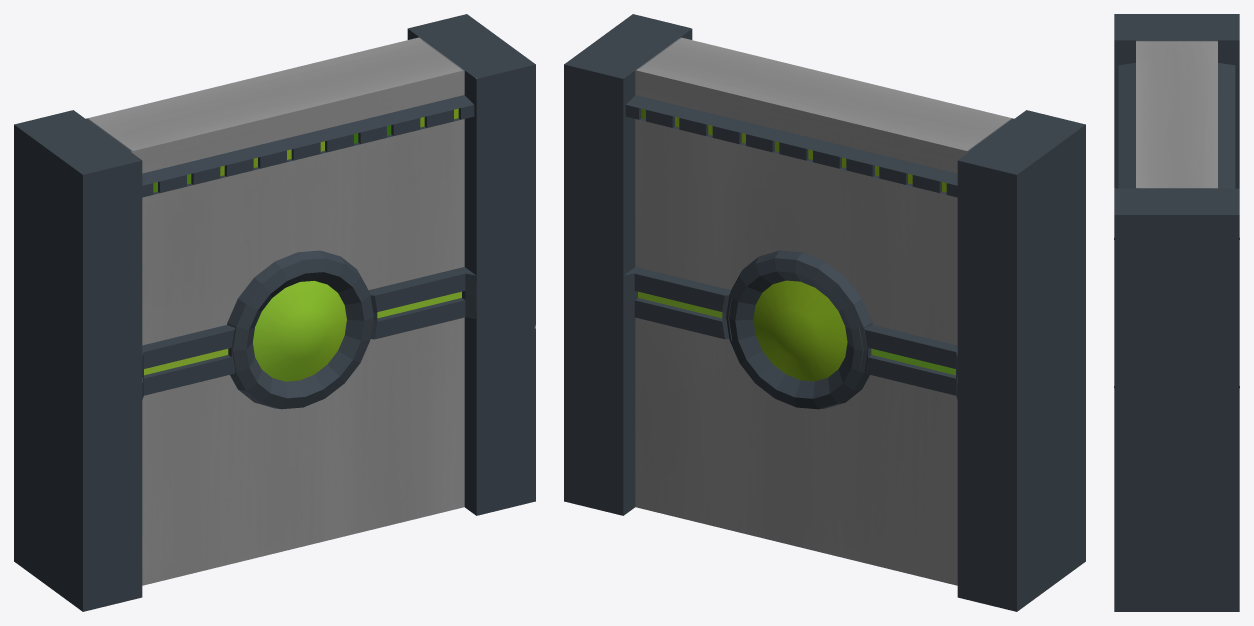
File: light wall.fbx
The picture shows the model from 3 angles, left to right: view 1: azimuth 30°, elevation 25°; view 2: azimuth 150°, elevation 25°; view 3: azimuth 270°, elevation 25°; orthographic projection. The views are drawn at different scales.
Parts seen in each view (by area): view 1: polySurface29; view 2: polySurface29; view 3: polySurface29.
Part boxes in pixels (box(x1,y1,x2,y2)): polySurface29: box(14, 14, 535, 611); polySurface29: box(564, 14, 1085, 611); polySurface29: box(1114, 14, 1239, 611).
Size of the model in its own units: 3 by 2.77 by 0.7934.
Materials: 2 (2 with a texture image).
